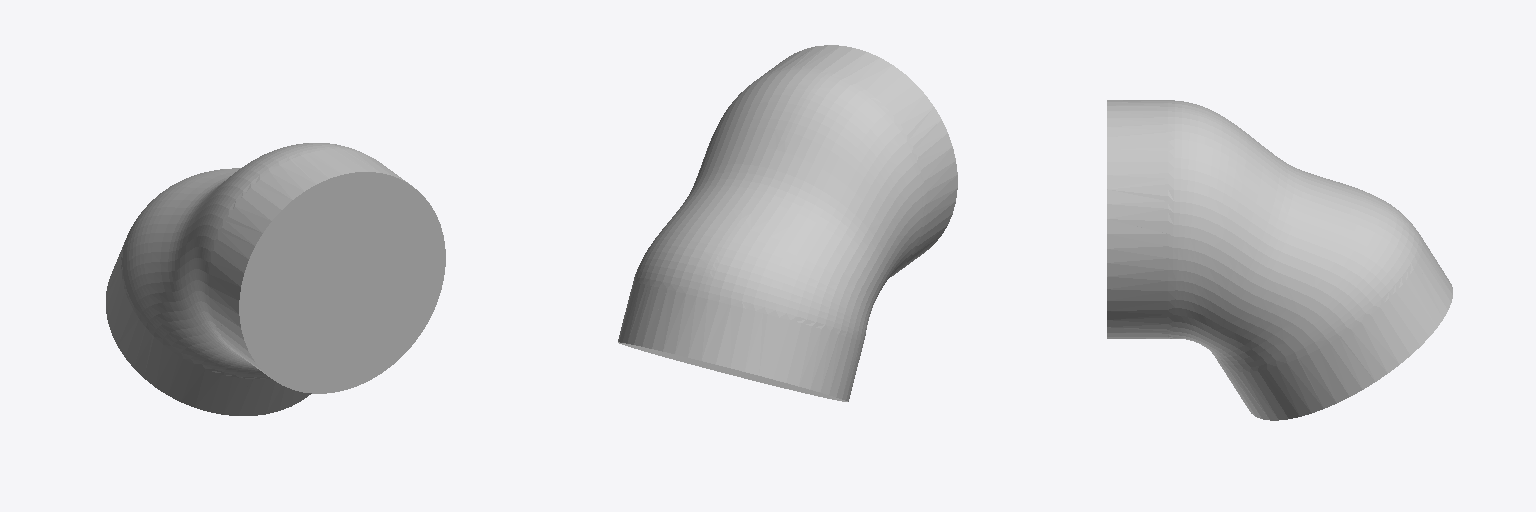
Rendered from j2n6s300_link_5_collisions_mesh_0.obj.
The picture shows the model from 3 angles: view 1: azimuth 30°, elevation 25°; view 2: azimuth 150°, elevation 25°; view 3: azimuth 270°, elevation 25°; orthographic projection.
Size of the model in its own units: 0.063 by 0.0842 by 0.0914.